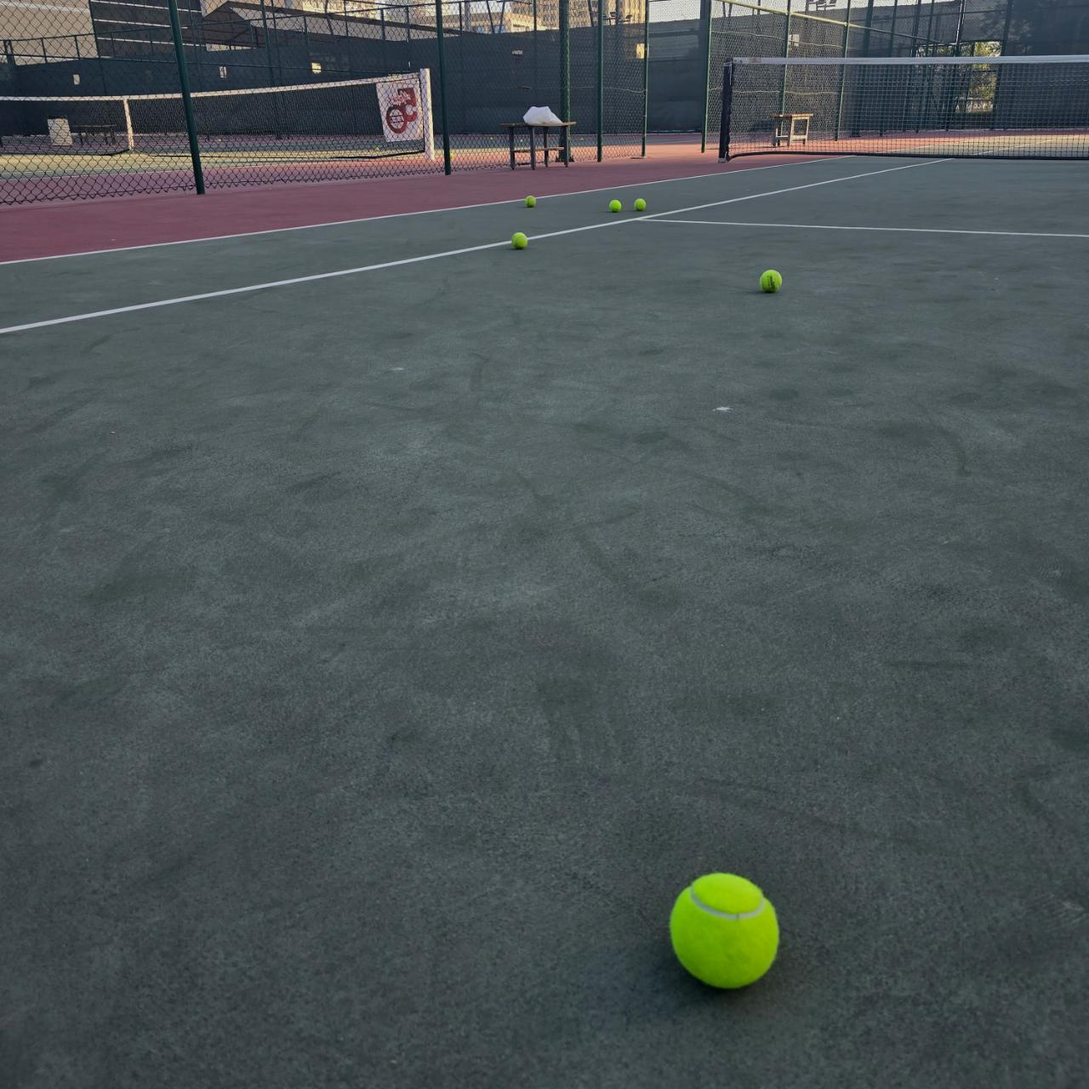tennis-ball: (669, 869, 782, 990), (760, 267, 784, 292), (513, 230, 529, 248), (610, 197, 624, 212), (635, 196, 648, 210), (526, 193, 538, 207)
